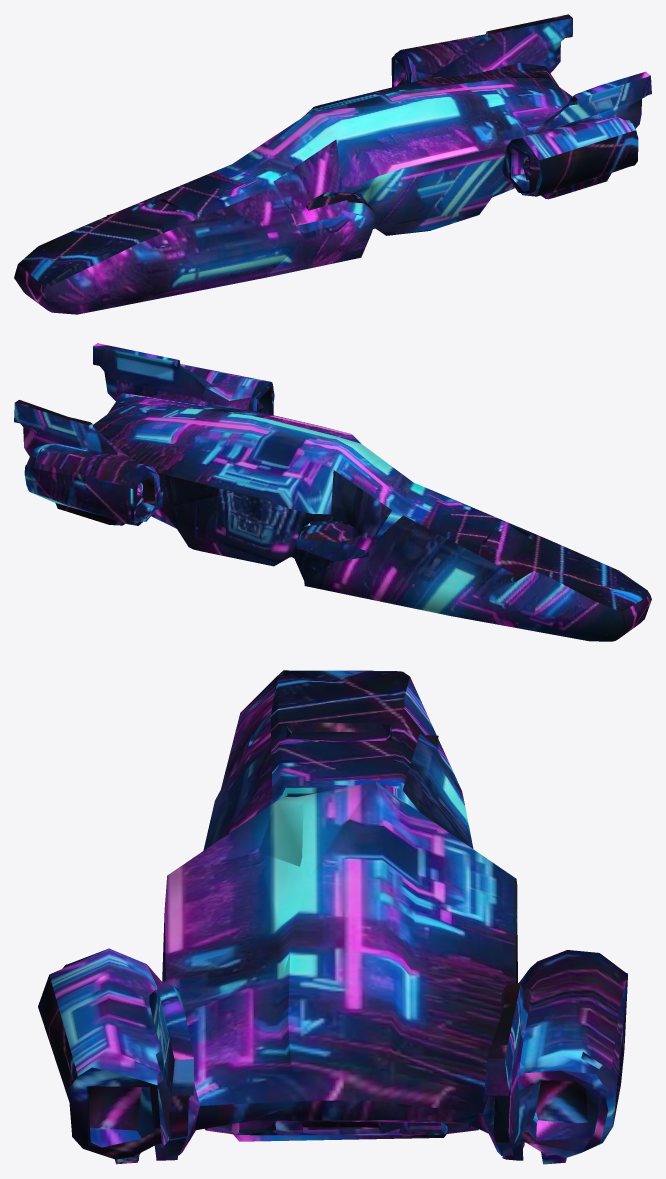
File: disco.glb
3 renders of one model, top to bottom at view 1: azimuth 30°, elevation 25°; view 2: azimuth 150°, elevation 25°; view 3: azimuth 270°, elevation 25°, orthographic. The views are drawn at different scales.
Visible parts, largest first — view 1: Mesh0; view 2: Mesh0; view 3: Mesh0.
Part boxes in pixels (bbox=[...]): Mesh0: bbox=[14, 14, 651, 314]; Mesh0: bbox=[14, 343, 651, 641]; Mesh0: bbox=[38, 670, 627, 1164].
Bounding box in the file's own units: 1.91 × 0.3856 × 0.8387.
Materials: 1 (1 with a texture image).
